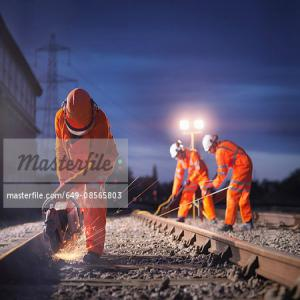white: (203, 135, 219, 155), (170, 143, 186, 161)
yellow: (62, 91, 97, 136)
